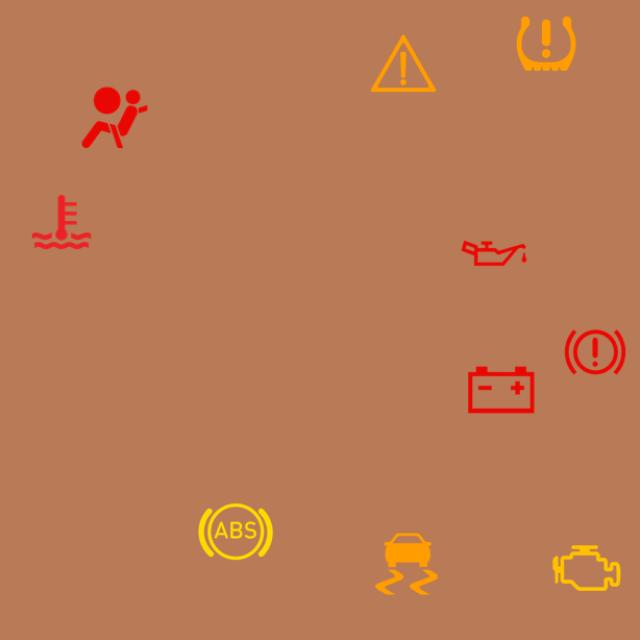Anti Lock Braking System: (195, 491, 276, 572)
Braking System Issue: (554, 312, 636, 393)
Charging System Issue: (461, 349, 542, 431)
Check Engine: (546, 527, 628, 609)
Electronic Stability Problem -ESP-: (366, 523, 447, 605)
Engine Overheating Warning Light: (21, 181, 102, 263)
Low Engine Oil Warning Light: (453, 213, 535, 294)
Low Tire Pressure Warning Light: (505, 3, 587, 85)
Master warning light: (363, 23, 444, 104)
SRS-Airbag: (74, 77, 155, 159)
